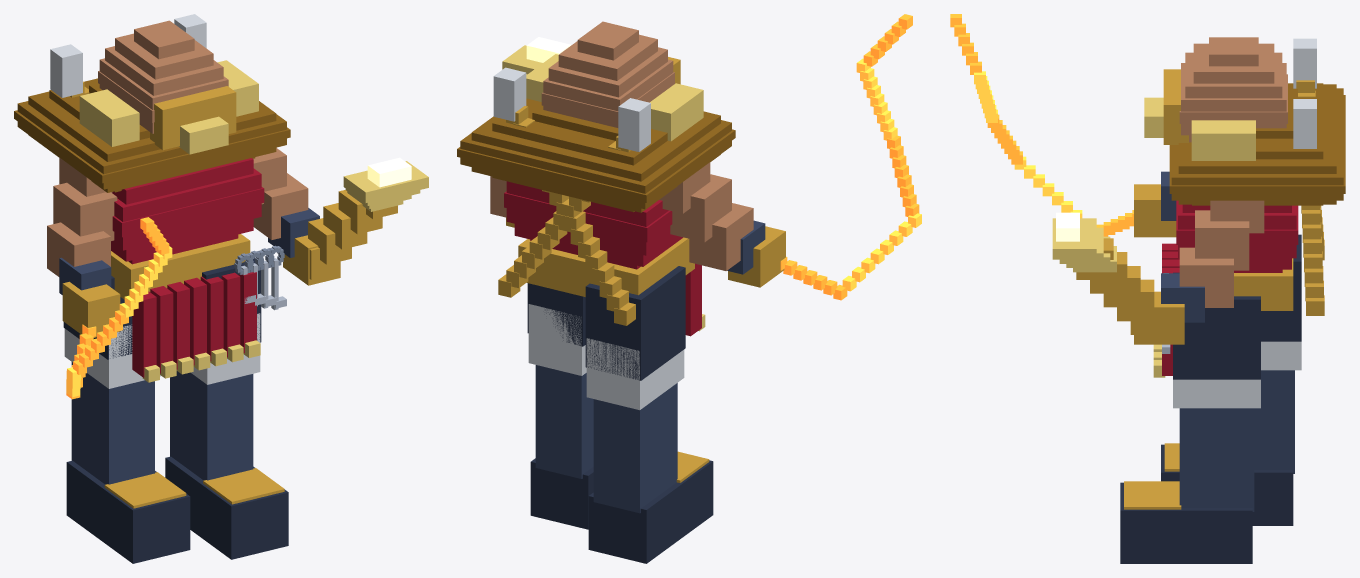
The model's file is arena-beastmaster.glb.
3 renders of one model, left to right at view 1: azimuth 30°, elevation 25°; view 2: azimuth 150°, elevation 25°; view 3: azimuth 270°, elevation 25°, orthographic.
Visible parts, largest first — view 1: Greaves, Hide, Boots, Arms, Armor, Cloth, Head, Horn, Trim, LionMask, Glow, Knees (+5 smaller); view 2: Hide, Greaves, Cloth, Boots, Head, Darts, Knees, Arms, Armor, Glow, Belt, Hands (+3 smaller); view 3: Hide, Greaves, Boots, Head, Cloth, Arms, Horn, Darts, Knees, Armor, Glow, Hands (+4 smaller).
Boxes of the visible parts, x1=… form: Greaves: x1=71, y1=362, x2=253, y2=484; Hide: x1=14, y1=60, x2=290, y2=192; Boots: x1=66, y1=456, x2=288, y2=563; Arms: x1=47, y1=148, x2=319, y2=294; Armor: x1=111, y1=158, x2=264, y2=264; Cloth: x1=63, y1=257, x2=261, y2=377; Head: x1=98, y1=20, x2=228, y2=133; Horn: x1=308, y1=161, x2=428, y2=279; Trim: x1=104, y1=340, x2=284, y2=508; LionMask: x1=150, y1=86, x2=236, y2=154; Glow: x1=66, y1=217, x2=172, y2=399; Knees: x1=64, y1=313, x2=260, y2=388; Hide: x1=457, y1=54, x2=735, y2=212; Greaves: x1=535, y1=365, x2=677, y2=513; Cloth: x1=527, y1=263, x2=701, y2=380; Boots: x1=530, y1=458, x2=713, y2=563; Head: x1=541, y1=21, x2=674, y2=127; Darts: x1=493, y1=67, x2=650, y2=325; Knees: x1=528, y1=304, x2=684, y2=410; Arms: x1=490, y1=162, x2=765, y2=274; Armor: x1=504, y1=181, x2=683, y2=269; Glow: x1=780, y1=14, x2=921, y2=300; Belt: x1=518, y1=237, x2=694, y2=296; Hands: x1=506, y1=217, x2=785, y2=287; Hide: x1=1169, y1=83, x2=1345, y2=205; Greaves: x1=1179, y1=370, x2=1294, y2=511; Boots: x1=1120, y1=444, x2=1293, y2=563; Head: x1=1179, y1=37, x2=1287, y2=142; Cloth: x1=1162, y1=234, x2=1301, y2=379; Arms: x1=1161, y1=171, x2=1264, y2=322; Horn: x1=1052, y1=218, x2=1154, y2=334; Darts: x1=1293, y1=38, x2=1324, y2=315; Knees: x1=1173, y1=341, x2=1301, y2=408; Armor: x1=1176, y1=200, x2=1298, y2=272; Glow: x1=950, y1=14, x2=1133, y2=236; Hands: x1=1134, y1=184, x2=1184, y2=344.
Size of the model in its own units: 1.42 by 1.76 by 1.3.
